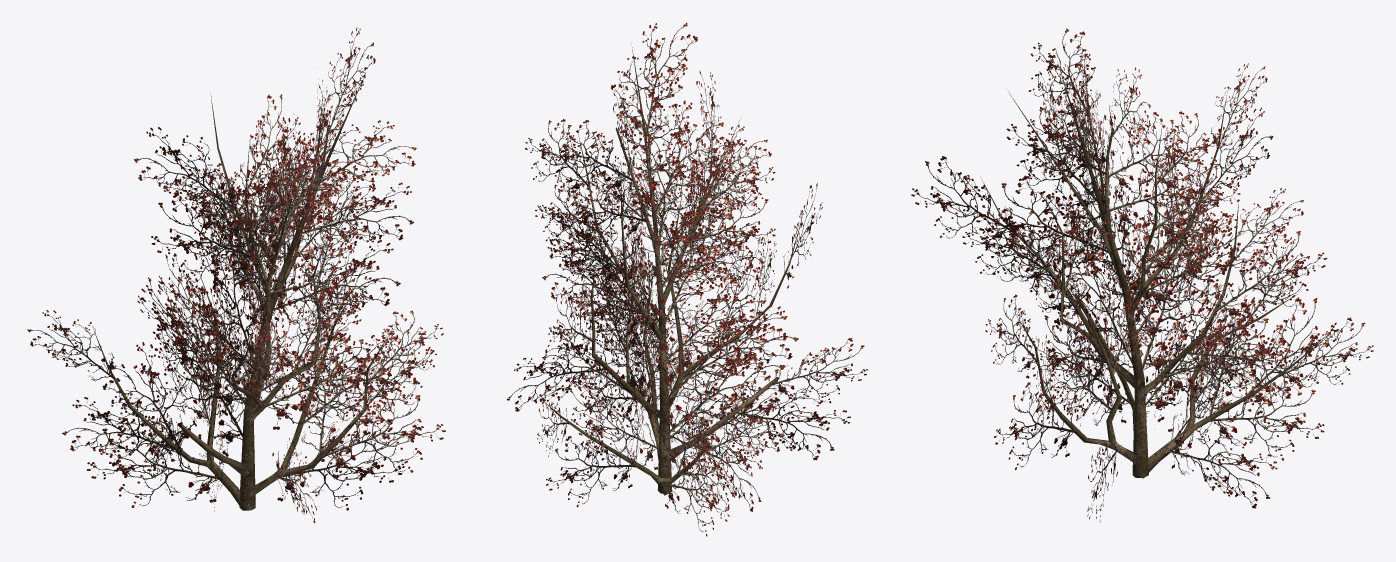
The picture shows the model from 3 angles, left to right: view 1: azimuth 30°, elevation 25°; view 2: azimuth 150°, elevation 25°; view 3: azimuth 270°, elevation 25°; orthographic projection. The views are drawn at different scales.
Parts seen in each view (by area): view 1: 704; view 2: 704; view 3: 704.
Boxes of the visible parts, x1=… form: 704: x1=27, y1=27, x2=445, y2=523; 704: x1=506, y1=22, x2=867, y2=536; 704: x1=911, y1=28, x2=1373, y2=522.
Size of the model in its own units: 12.74 by 18.67 by 16.22.
